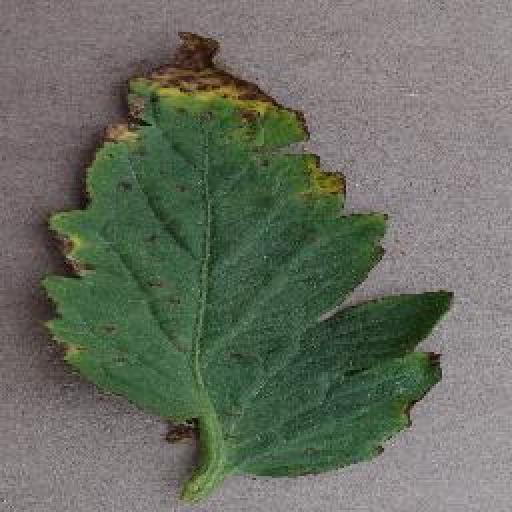Bacterial Spot: (42, 24, 466, 484)
